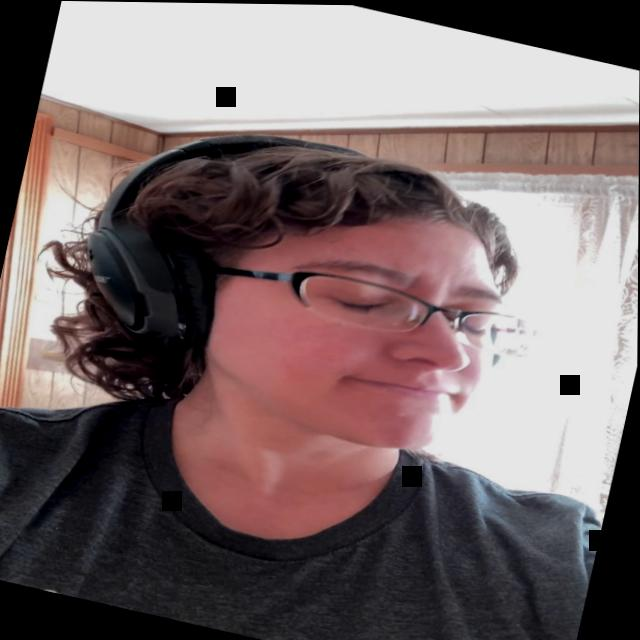NO-Mask: (169, 159, 523, 467)
